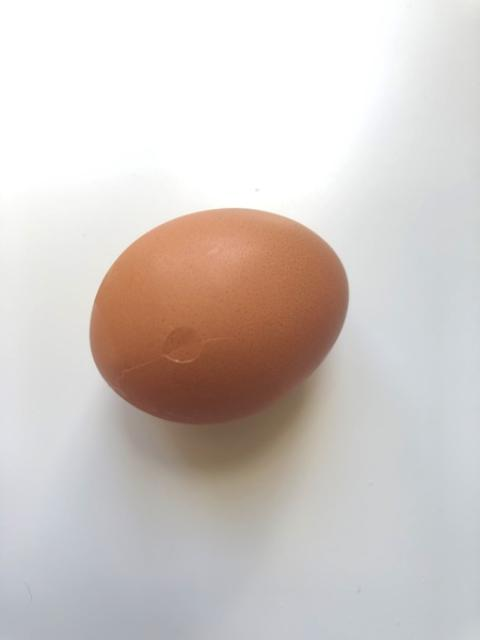Roto: (87, 205, 350, 425)
